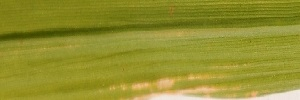RiceBacterialBlight: (94, 68, 263, 100)
